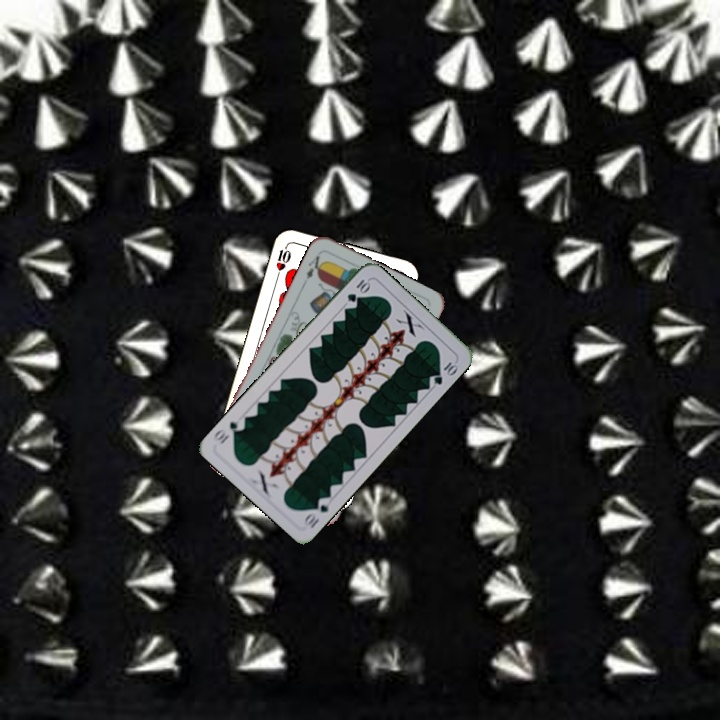EA: (300, 252, 327, 287)
G10: (300, 492, 334, 531), (343, 275, 373, 305)
H10: (272, 241, 294, 280)
